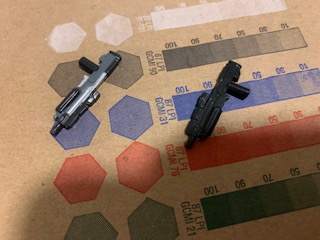rifle: (47, 46, 124, 137), (181, 59, 253, 152)
